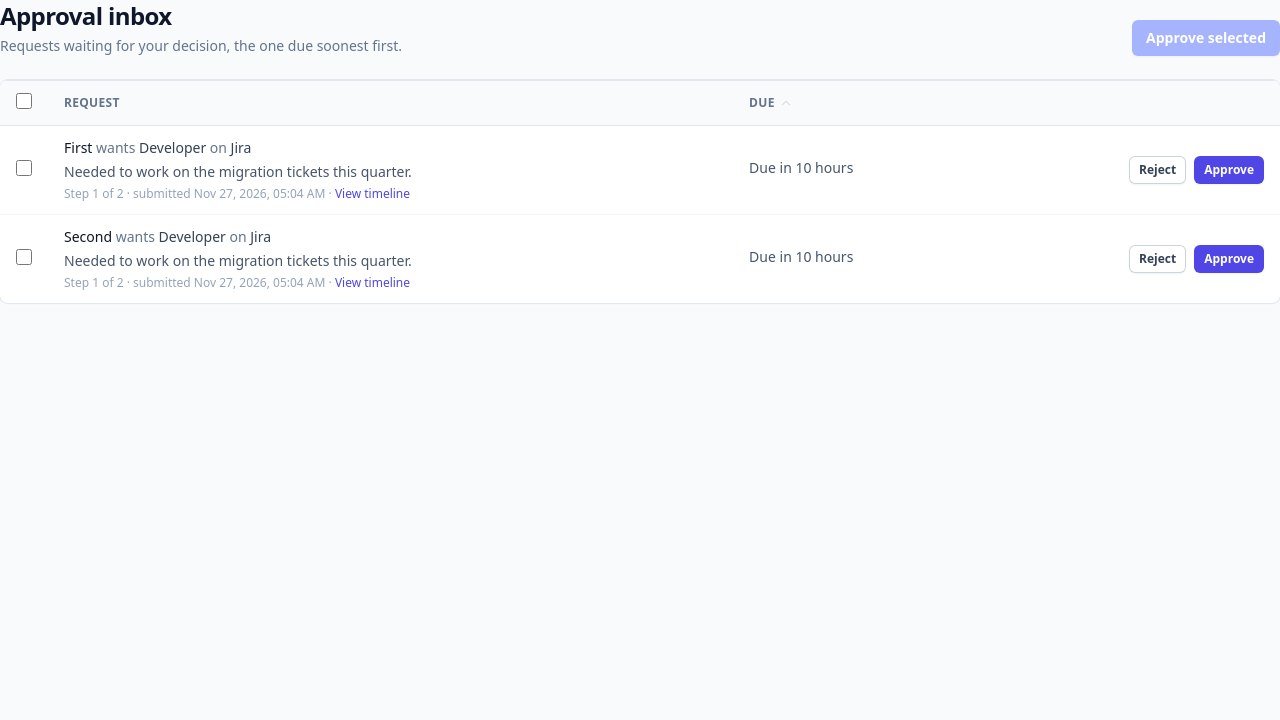
Test case: Approval inbox › puts the row back and shows the error when the API refuses
Step 1. Click the button with aria-label "Approve request from Second" → (1229, 259), box [1194, 245, 1264, 273]
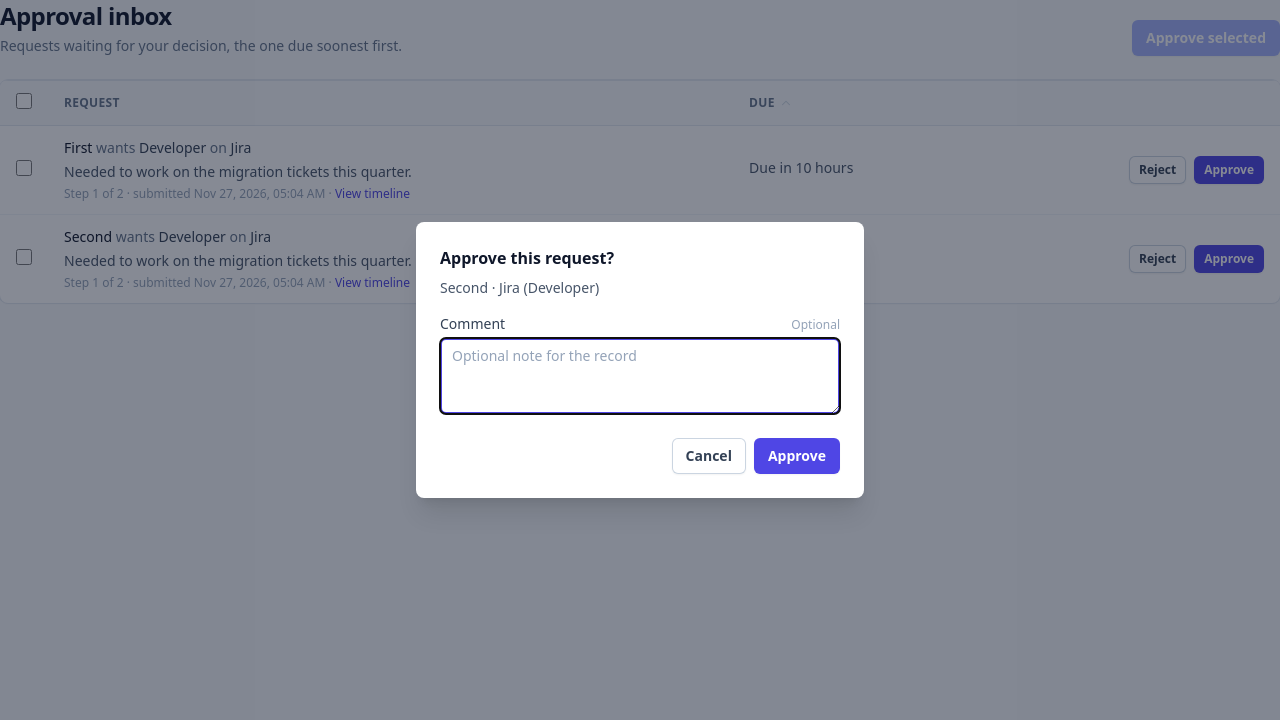
Step 2. Click the button "Approve" → (797, 456), box [754, 438, 840, 474]
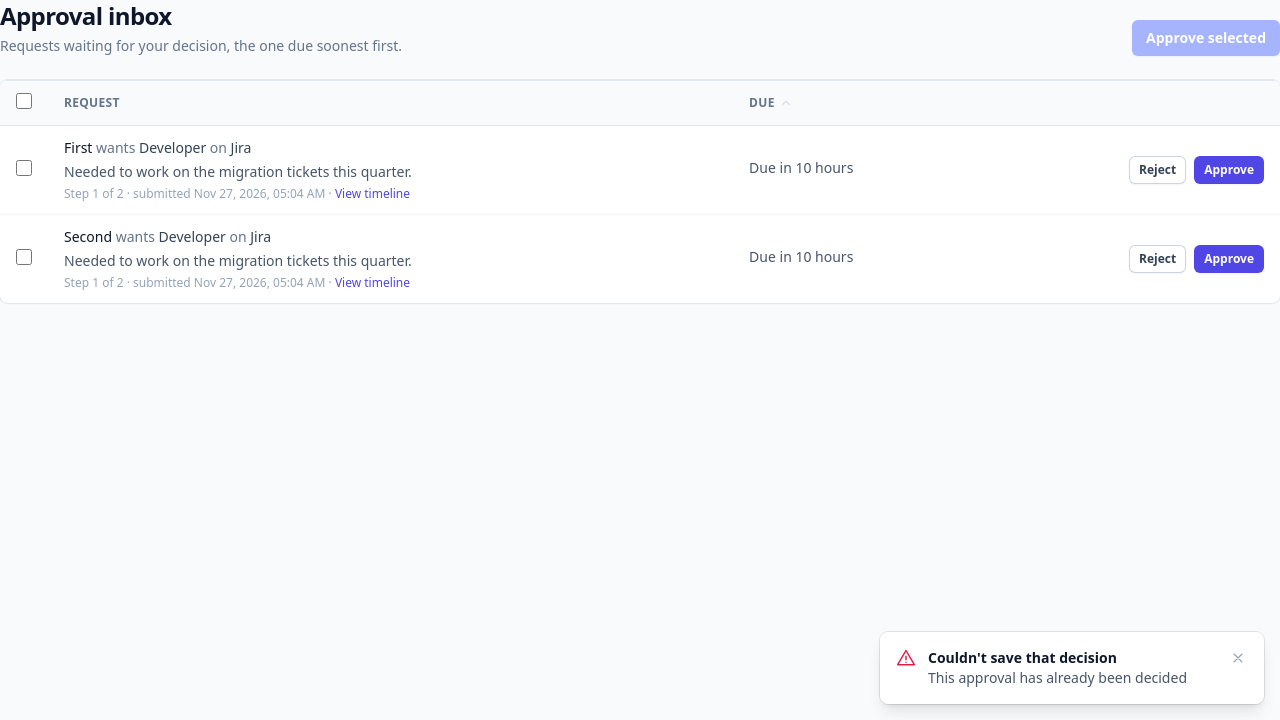
Expected: the message shows "This approval has already been decided", [928, 668, 1187, 687]
